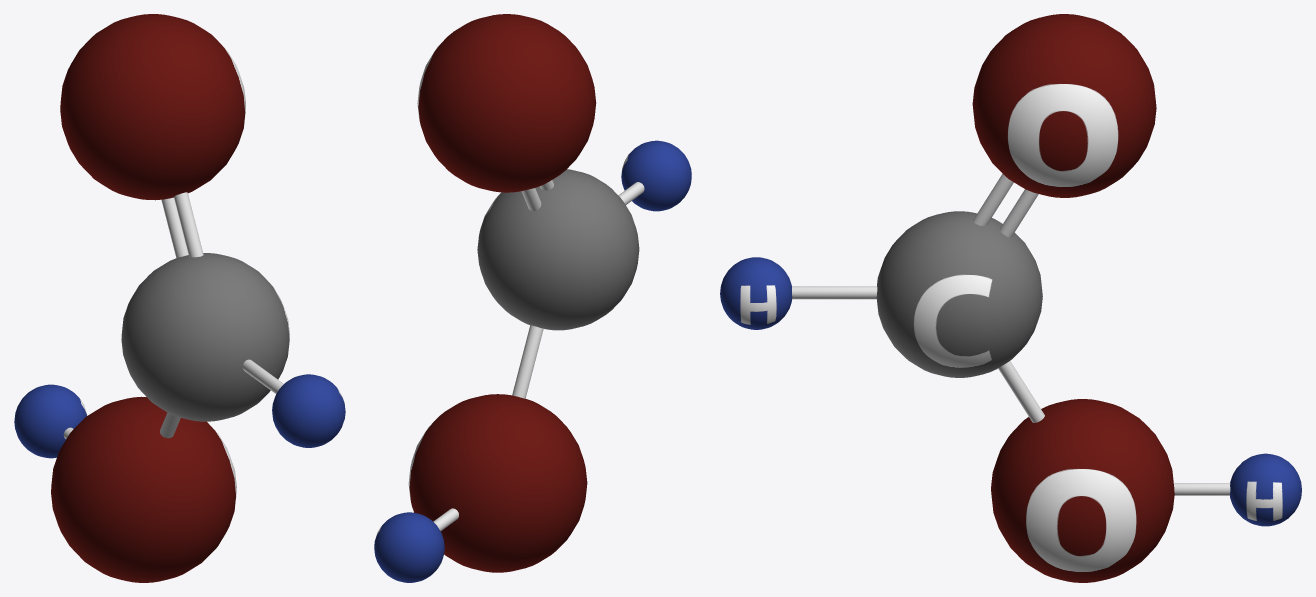
File: formicAcid.glb
The picture shows the model from 3 angles, left to right: view 1: azimuth 30°, elevation 25°; view 2: azimuth 150°, elevation 25°; view 3: azimuth 270°, elevation 25°; orthographic projection. The views are drawn at different scales.
Parts seen in each view (by area): view 1: oxygen, oxygen.001, carbon1, hydrogen.002, hydrogen.001, bond.006, bond.008, bond.003; view 2: oxygen, oxygen.001, carbon1, hydrogen.001, hydrogen.002, bond.001; view 3: oxygen, oxygen.001, carbon1, hydrogen.002, hydrogen.001, bond.003, bond.001, bond.006, bond.008, bond.002.
Boxes of the visible parts, x1=… form: oxygen: x1=60, y1=14, x2=245, y2=200; oxygen.001: x1=51, y1=396, x2=236, y2=582; carbon1: x1=121, y1=253, x2=289, y2=421; hydrogen.002: x1=272, y1=374, x2=345, y2=447; hydrogen.001: x1=14, y1=384, x2=87, y2=458; bond.006: x1=174, y1=192, x2=203, y2=257; bond.008: x1=161, y1=197, x2=188, y2=257; bond.003: x1=242, y1=359, x2=283, y2=393; oxygen: x1=417, y1=14, x2=596, y2=192; oxygen.001: x1=408, y1=394, x2=587, y2=572; carbon1: x1=477, y1=169, x2=639, y2=330; hydrogen.001: x1=374, y1=512, x2=444, y2=582; hydrogen.002: x1=621, y1=140, x2=691, y2=211; bond.001: x1=512, y1=325, x2=543, y2=398; oxygen: x1=972, y1=14, x2=1156, y2=197; oxygen.001: x1=991, y1=399, x2=1174, y2=582; carbon1: x1=876, y1=211, x2=1042, y2=377; hydrogen.002: x1=720, y1=257, x2=792, y2=329; hydrogen.001: x1=1230, y1=453, x2=1301, y2=526; bond.003: x1=792, y1=286, x2=877, y2=299; bond.001: x1=998, y1=361, x2=1044, y2=422; bond.006: x1=973, y1=174, x2=1013, y2=226; bond.008: x1=1000, y1=189, x2=1038, y2=237; bond.002: x1=1173, y1=483, x2=1230, y2=495.
Bounding box in the file's own units: 0.639 × 2.12 × 2.02.
Materials: 10 (5 with a texture image).
